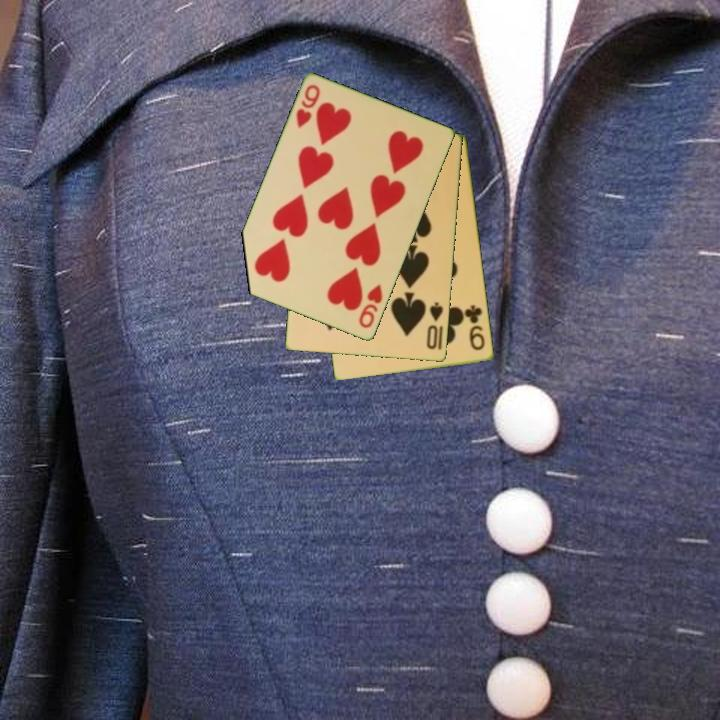10s: (423, 299, 446, 353)
9c: (462, 301, 488, 354)
9h: (355, 281, 386, 331), (293, 81, 323, 131)
